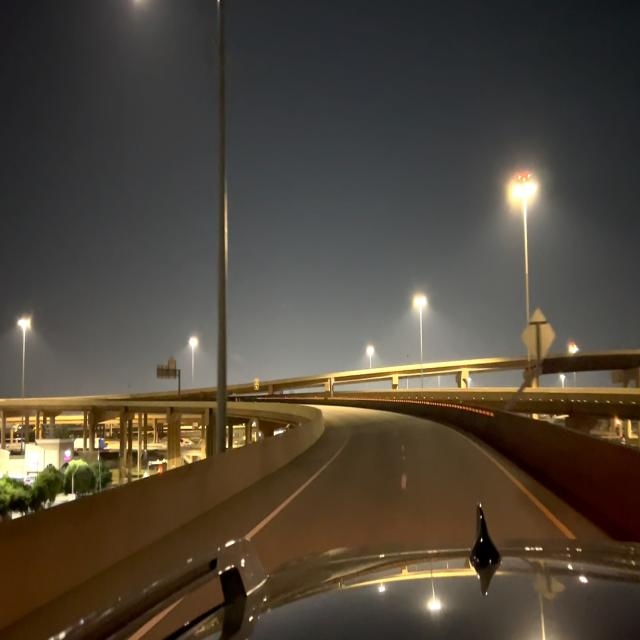back-of-sign: (524, 309, 557, 364)
